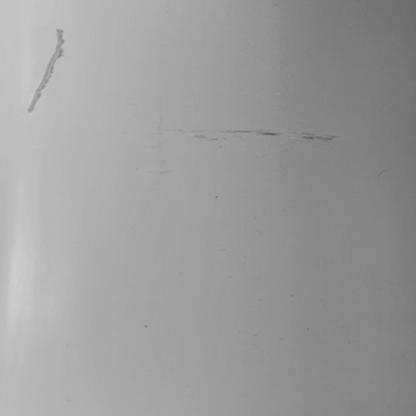sunshang: (170, 120, 337, 148), (29, 29, 66, 111)
